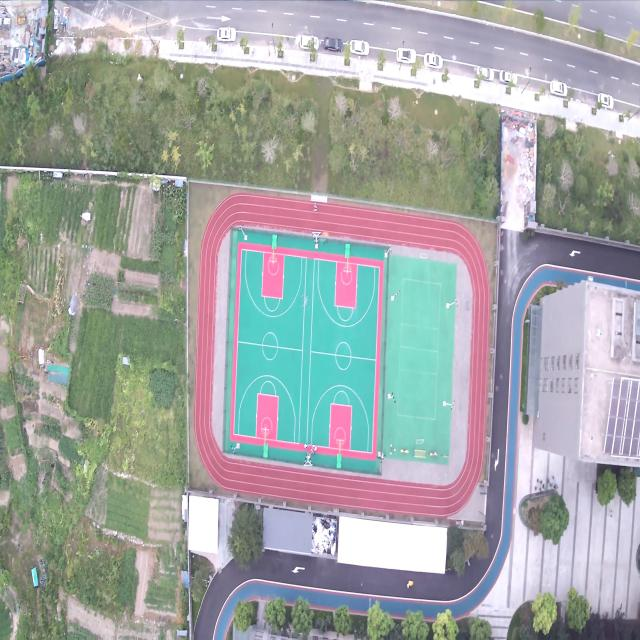drone: (300, 294, 310, 310)
